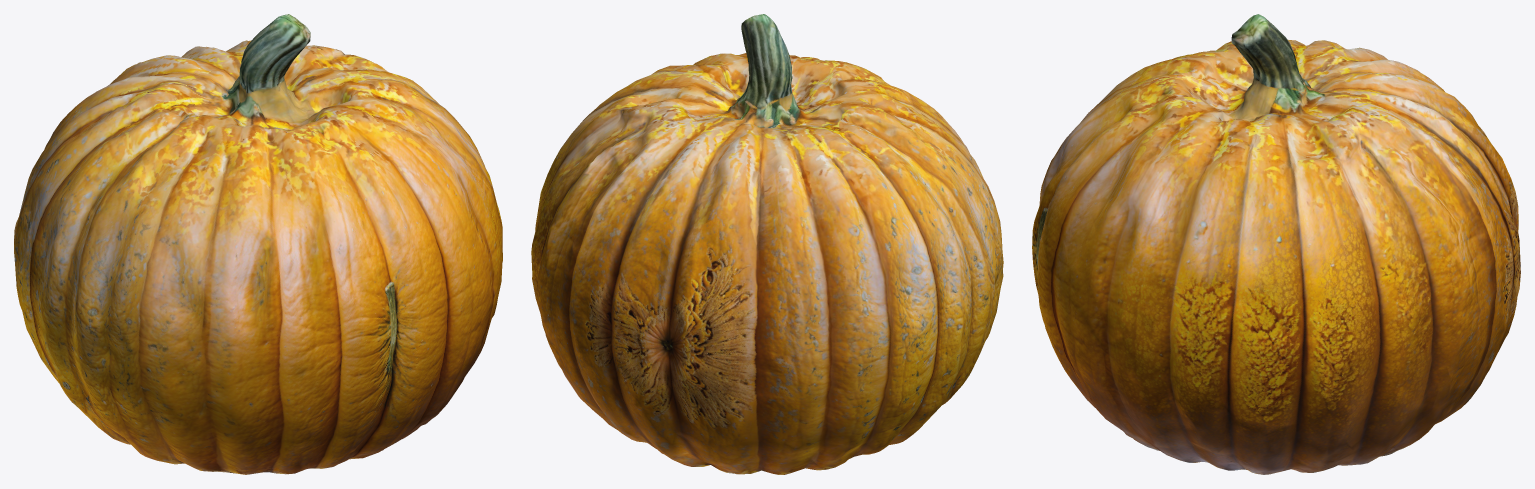
3 renders of one model, left to right at view 1: azimuth 30°, elevation 25°; view 2: azimuth 150°, elevation 25°; view 3: azimuth 270°, elevation 25°, orthographic. The views are drawn at different scales.
Bounding box in the file's own units: 1.2 × 1.11 × 1.19.
Materials: 1 (1 with a texture image).
